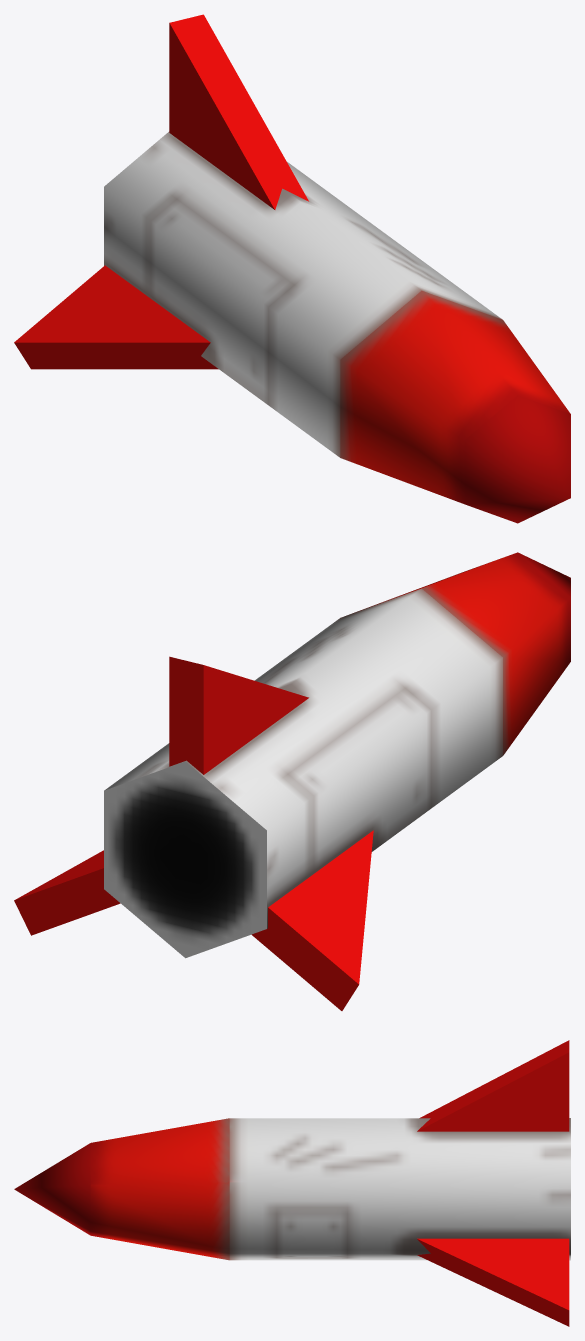
The model's file is Rocket.fbx.
The picture shows the model from 3 angles, top to bottom: view 1: azimuth 30°, elevation 25°; view 2: azimuth 150°, elevation 25°; view 3: azimuth 270°, elevation 25°; orthographic projection. The views are drawn at different scales.
Visible parts, largest first — view 1: RocketMaterials; view 2: RocketMaterials; view 3: RocketMaterials.
Boxes of the visible parts, left/top/right/bottom form: RocketMaterials: left=14, top=14, right=570, bottom=523; RocketMaterials: left=14, top=552, right=570, bottom=1010; RocketMaterials: left=14, top=1040, right=570, bottom=1326.
Bounding box in the file's own units: 0.0725 × 0.0628 × 0.1401.
Materials: 1 (1 with a texture image).
